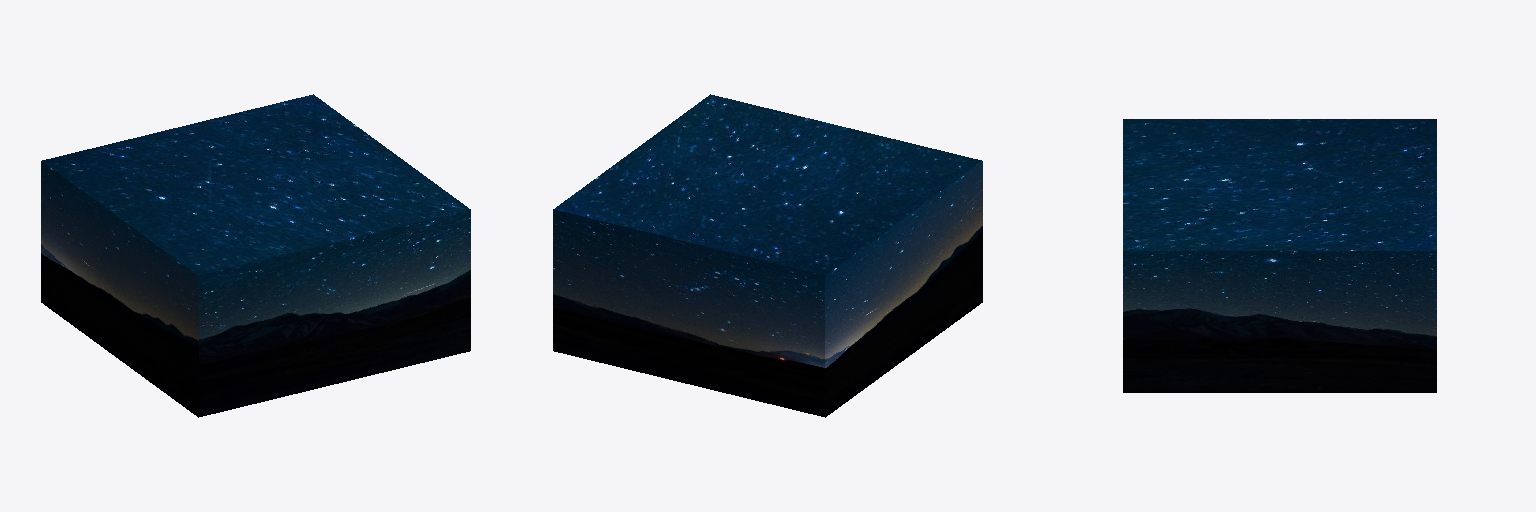
3 renders of one model, left to right at view 1: azimuth 30°, elevation 25°; view 2: azimuth 150°, elevation 25°; view 3: azimuth 270°, elevation 25°, orthographic.
Parts seen in each view (by area): view 1: Cube.001; view 2: Cube.001; view 3: Cube.001.
Part boxes in pixels (bbox=[...]): Cube.001: bbox=[41, 94, 470, 417]; Cube.001: bbox=[553, 94, 982, 417]; Cube.001: bbox=[1123, 119, 1436, 392].
Bounding box in the file's own units: 12.07 × 6.02 × 12.07.
1 materials, 1 textured.